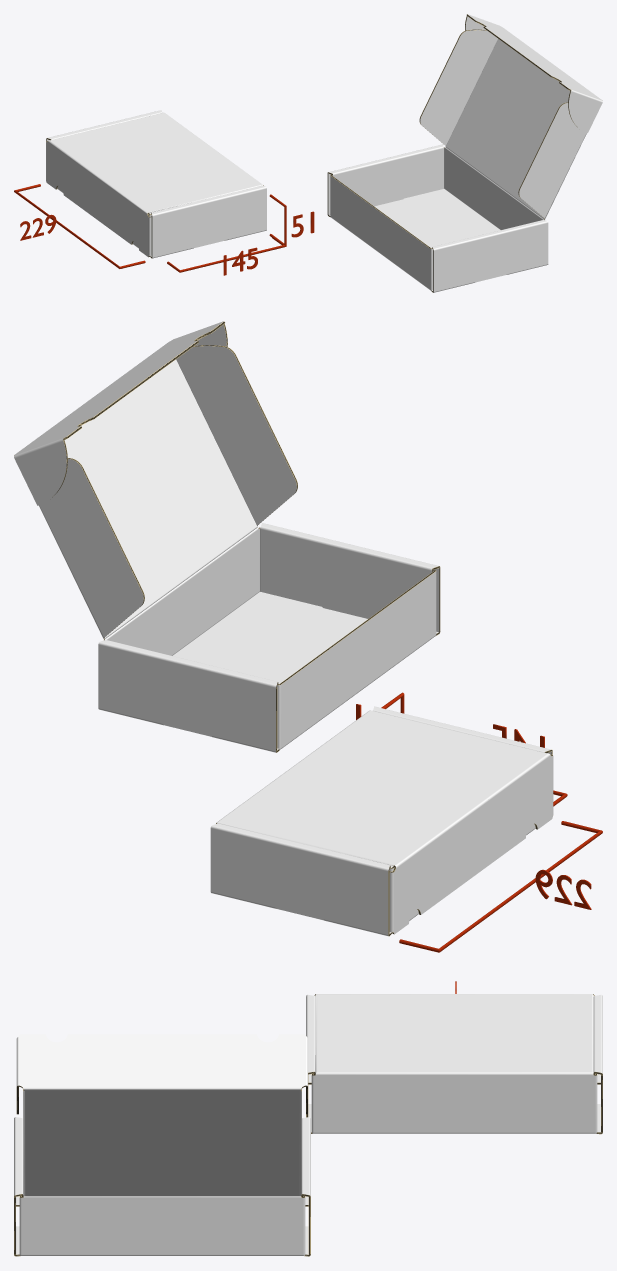
Rendered from 3D CAPS FOODS.gltf.
3 renders of one model, top to bottom at view 1: azimuth 30°, elevation 25°; view 2: azimuth 150°, elevation 25°; view 3: azimuth 270°, elevation 25°, orthographic. The views are drawn at different scales.
Parts seen in each view (by area): view 1: TQ_ARD-node.001, TQ_ARD-node, Plano.002, Plano.001; view 2: TQ_ARD-node.001, TQ_ARD-node, Plano.002, Texto.001; view 3: TQ_ARD-node.001, TQ_ARD-node.
Part boxes in pixels (box(x1,y1,x2,y2)): TQ_ARD-node.001: box(327, 14, 602, 292); TQ_ARD-node: box(46, 110, 266, 258); Plano.002: box(14, 184, 145, 268); Plano.001: box(167, 236, 285, 272); TQ_ARD-node.001: box(14, 321, 440, 752); TQ_ARD-node: box(210, 706, 553, 936); Plano.002: box(399, 821, 602, 952); Texto.001: box(535, 869, 591, 909); TQ_ARD-node.001: box(14, 1034, 310, 1256); TQ_ARD-node: box(306, 994, 602, 1134).
Bounding box in the file's own units: 0.5371 × 0.2057 × 0.4575.
Materials: 7 (2 with a texture image).
